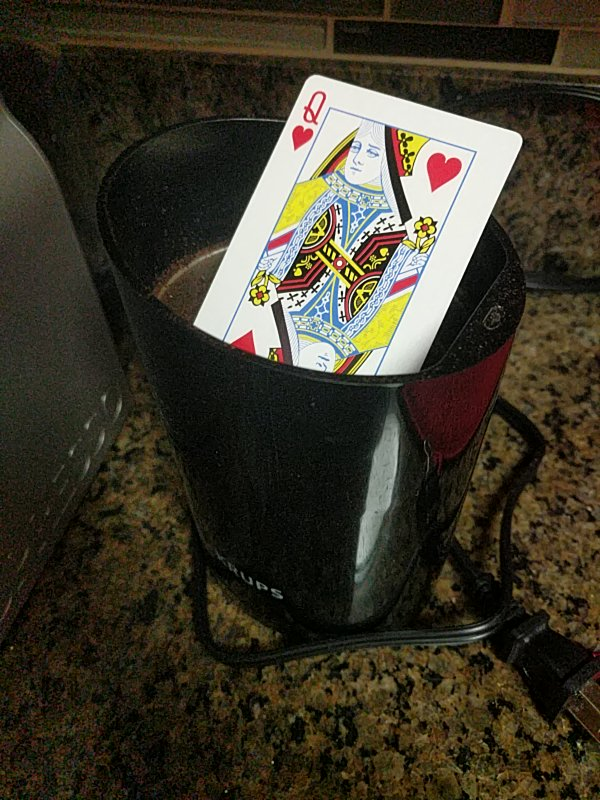Hearts: (192, 76, 523, 380)
